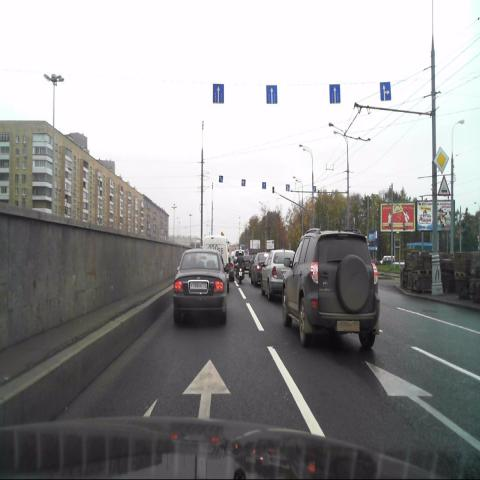1_5: (437, 175, 450, 195)
5_15_2: (212, 84, 224, 104)
